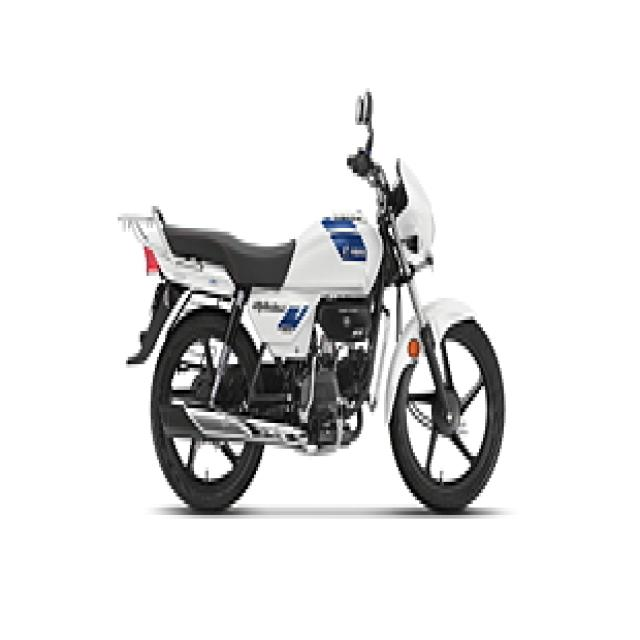Bike: (109, 79, 510, 522)
